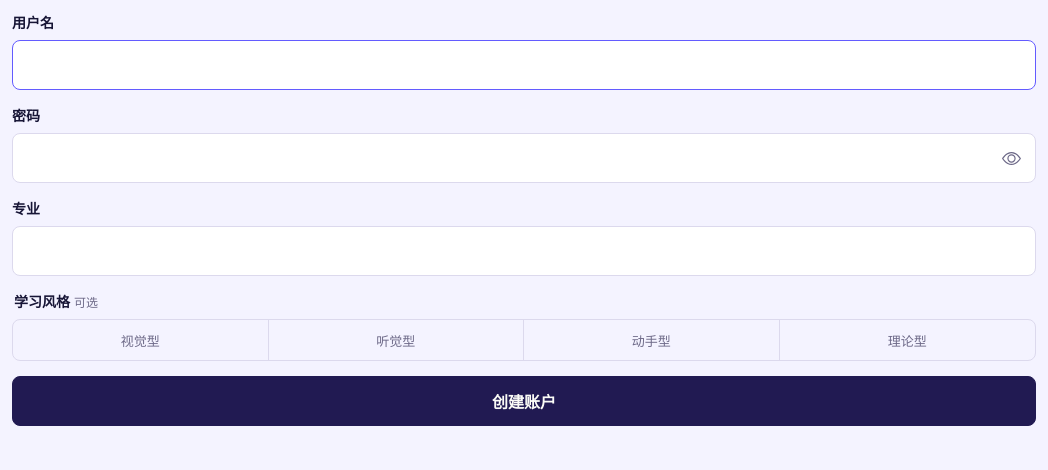
Test case: RegisterForm › blocks passwords shorter than eight characters
Type "learner" into the field labelled "用户名" at (524, 65), box [12,40,1036,90]
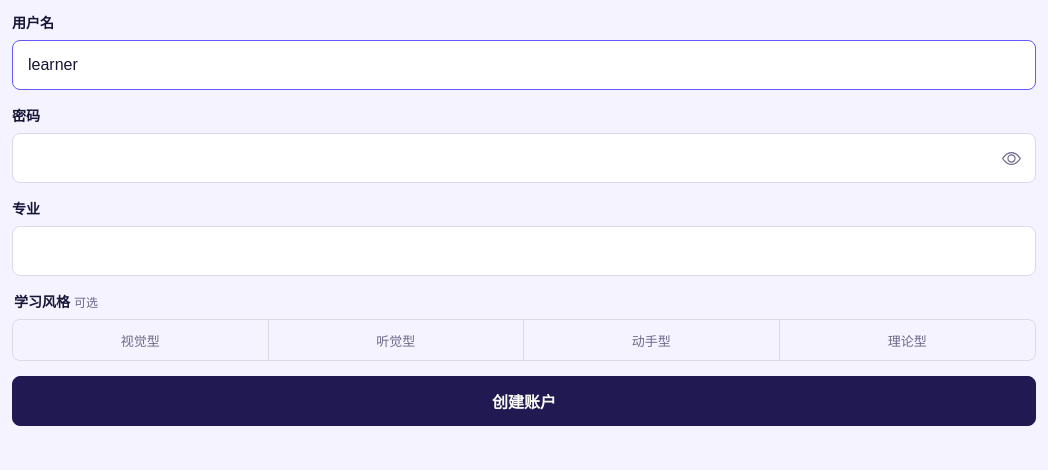
Type "short" into the password field labelled "密码" at (524, 158), box [12,133,1036,183]
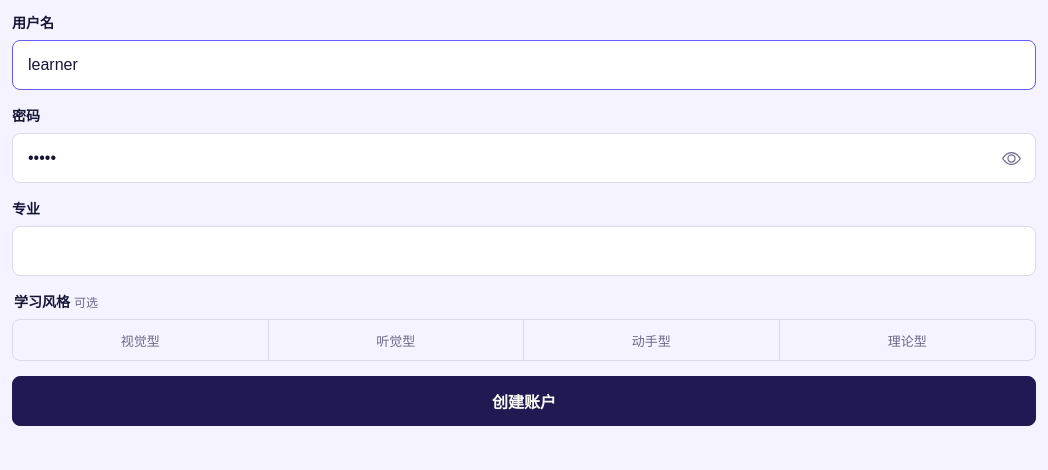
Type "人工智能" into the dropdown labelled "专业" at (524, 251), box [12,226,1036,276]
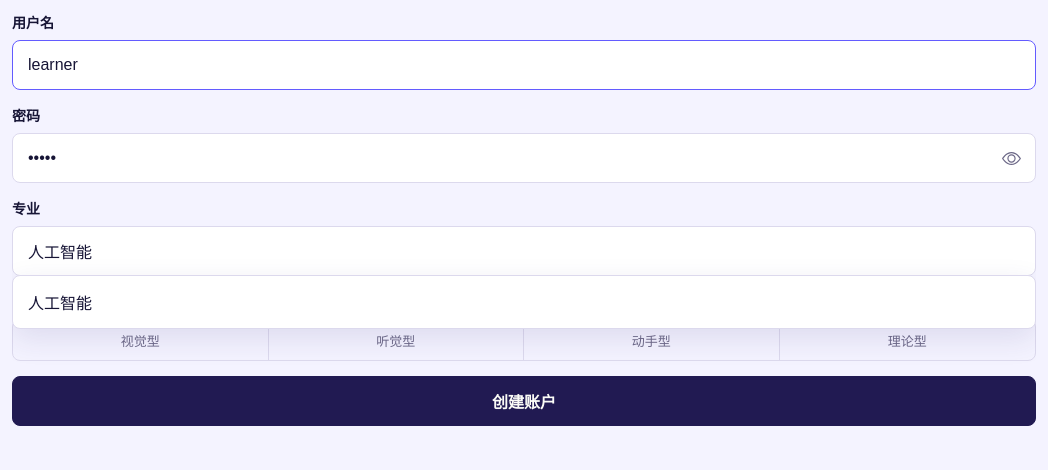
Submit the form
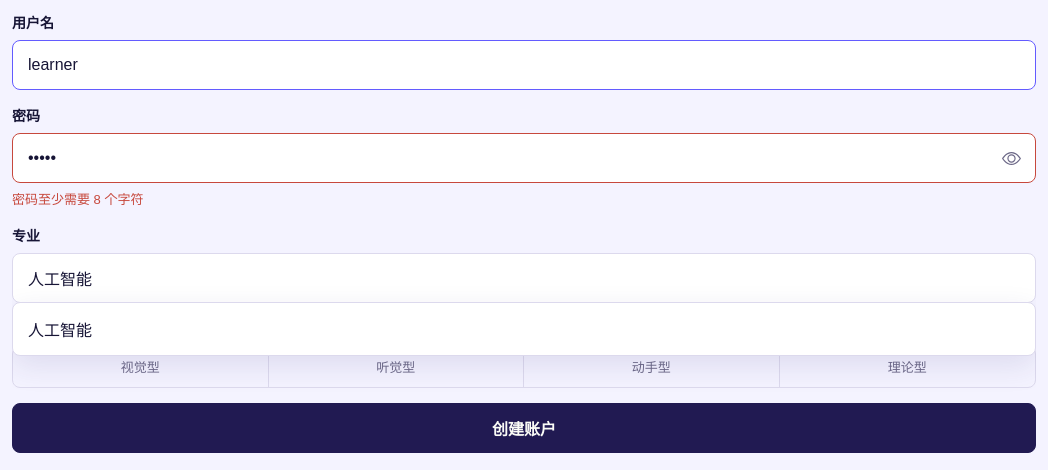
Expected: the form shows "密码至少需要 8 个字符", [12,192,144,207]
